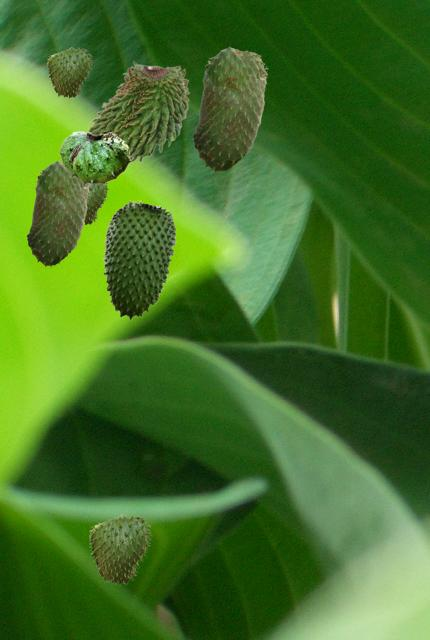guyabano: (86, 60, 189, 164), (192, 46, 267, 172), (103, 200, 175, 319), (26, 160, 89, 266), (89, 514, 151, 585), (59, 131, 130, 186), (47, 47, 92, 98), (85, 182, 108, 225)
